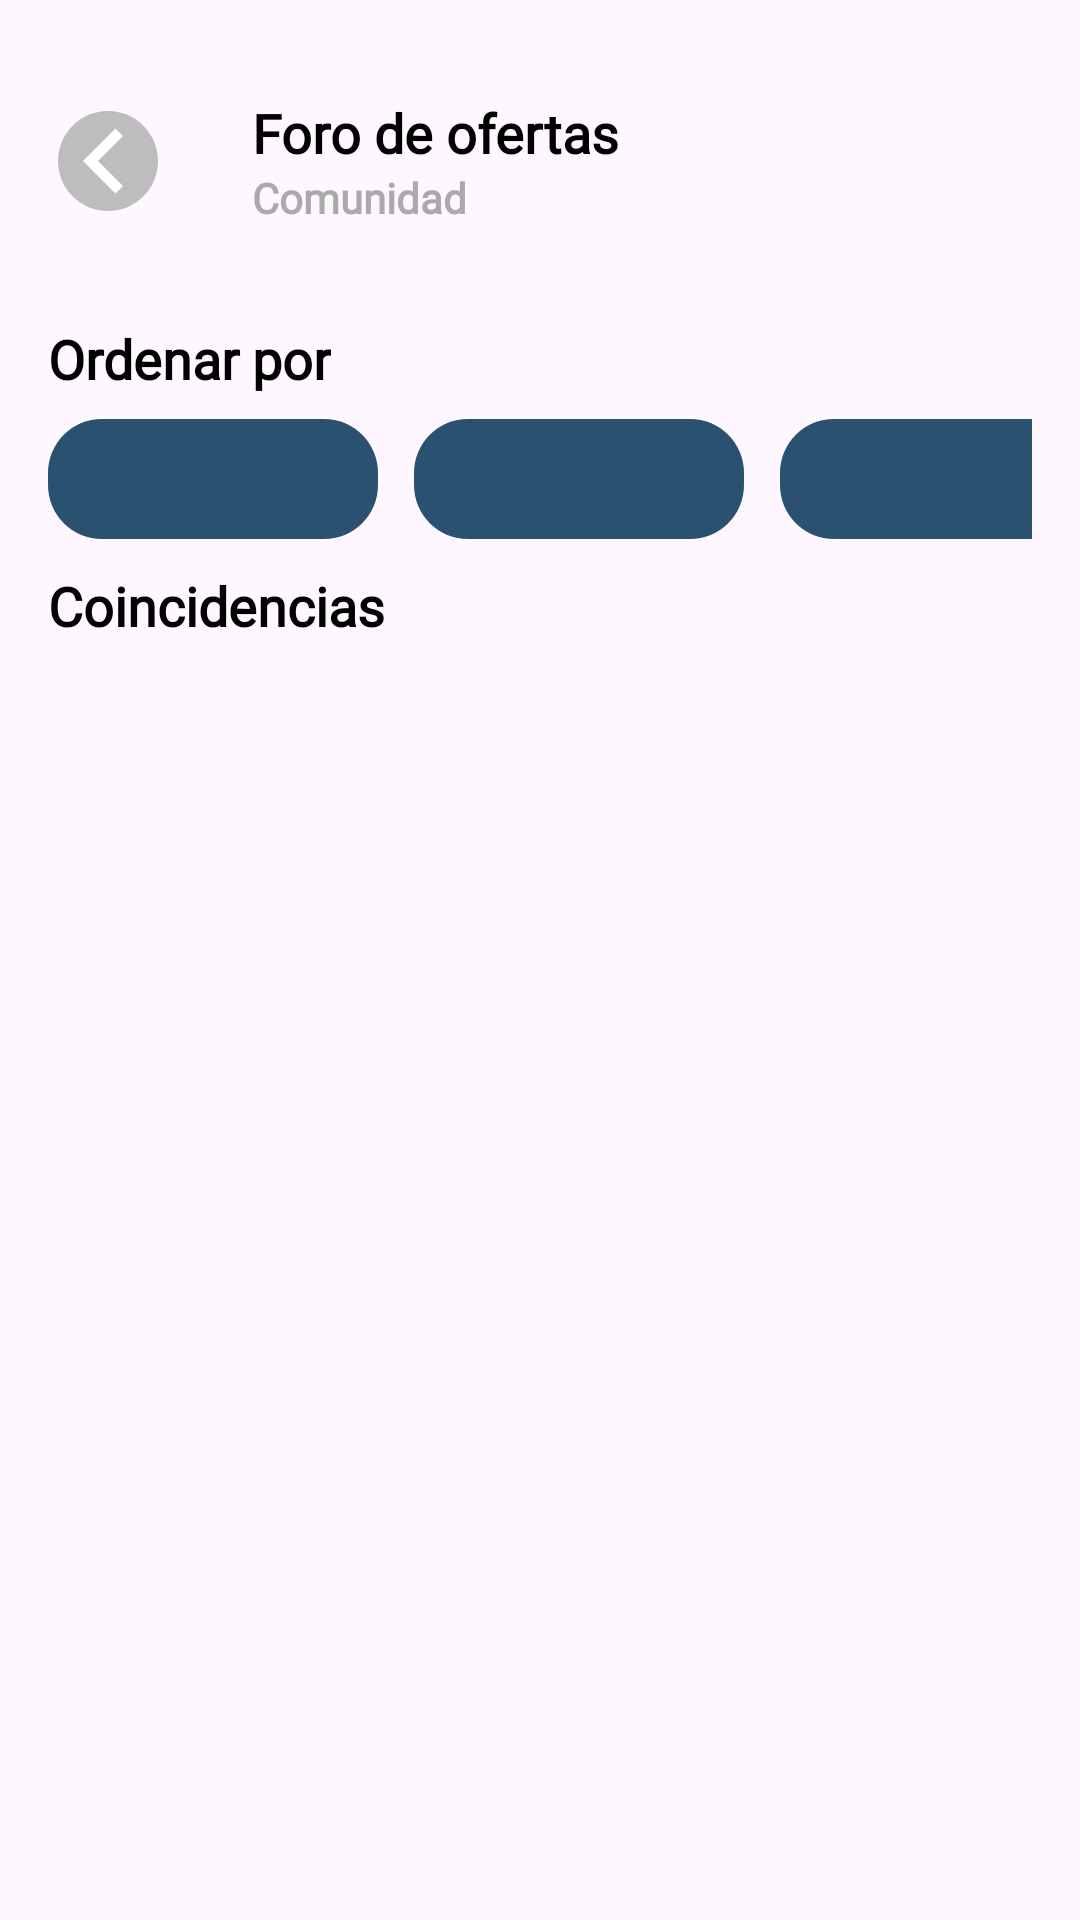

Point at icon controls on the screen. Image size 1080x1920, points as point (x, y).
atras: point (108, 161)
